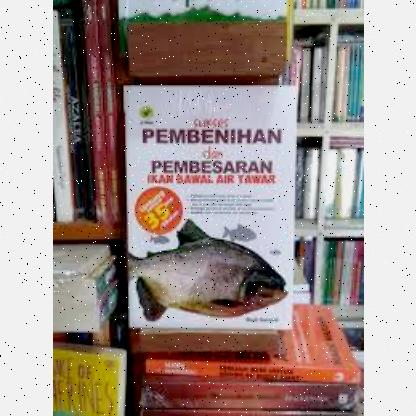ikan-pacu: (128, 228, 288, 322)
